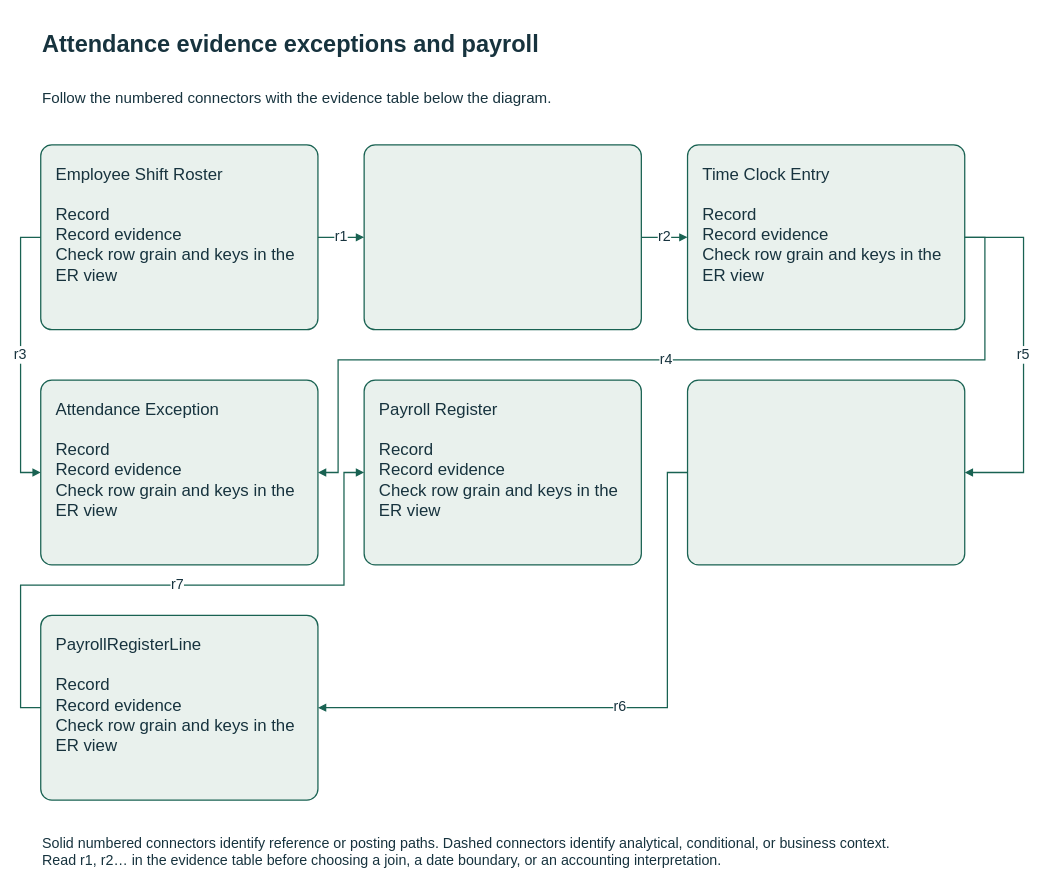
The diagram is 1046 pixels wide and 891 high, and some of its shapes have lost their labels. Each missing label, with the centre of its shape:
LaborTimeEntry Record Record evidence Check row grain and keys in the ER view: the point at 826,472
Time Clock Punch Record Record evidence Check row grain and keys in the ER view: the point at 502,237
